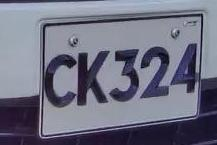2: (138, 43, 175, 101)
3: (106, 47, 143, 104)
4: (168, 41, 203, 97)
C: (40, 50, 77, 112)
K: (75, 47, 111, 111)
